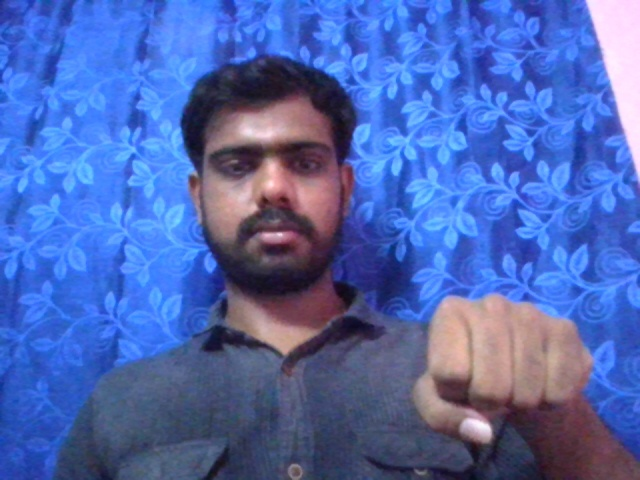Yes: (410, 292, 594, 445)
